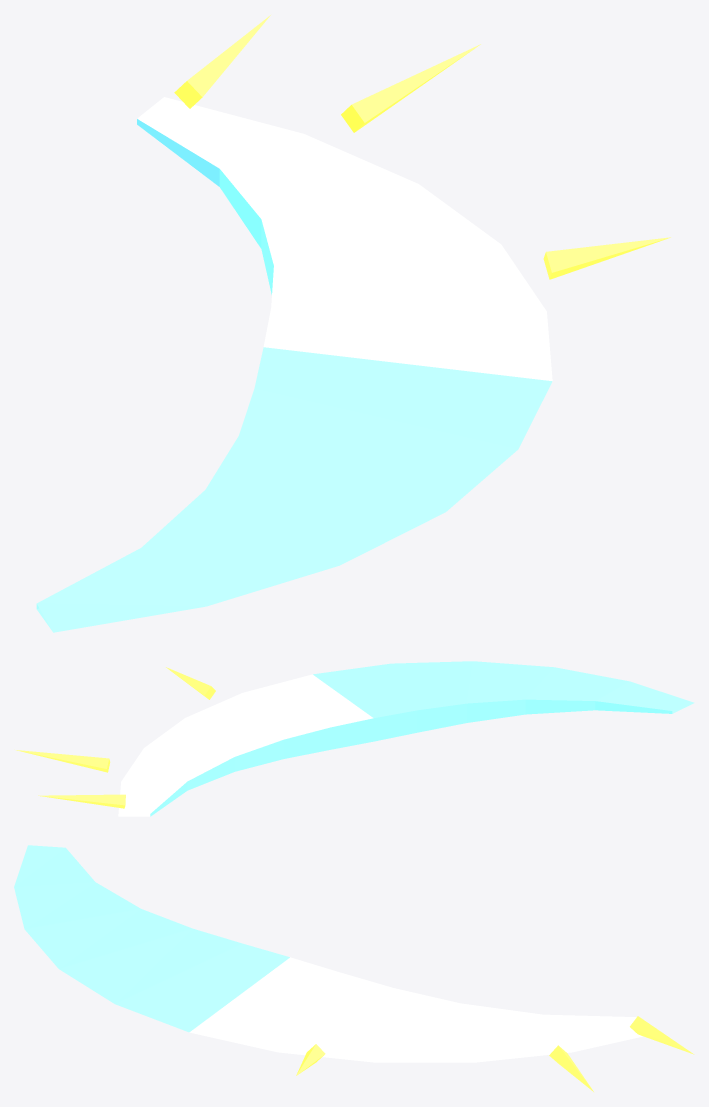
File: vfx_melee_slash.glb
3 renders of one model, top to bottom at view 1: azimuth 30°, elevation 25°; view 2: azimuth 150°, elevation 25°; view 3: azimuth 270°, elevation 25°, orthographic. The views are drawn at different scales.
Parts seen in each view (by area): view 1: VFX_Melee_Slash; view 2: VFX_Melee_Slash; view 3: VFX_Melee_Slash.
Part boxes in pixels (<box>): VFX_Melee_Slash: <box>36,15,670,632</box>; VFX_Melee_Slash: <box>16,661,694,816</box>; VFX_Melee_Slash: <box>14,845,694,1091</box>.
Bounding box in the file's own units: 0.6413 × 0.036 × 0.6955.
